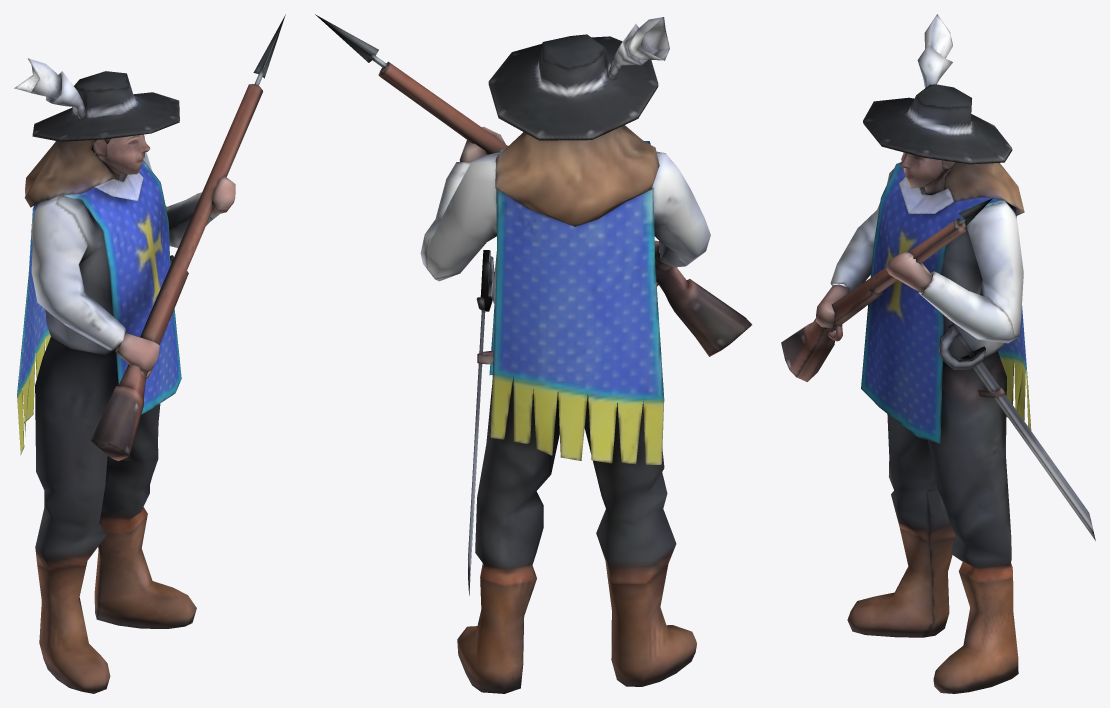
Rendered from Musketeers.glb.
3 views of the same model, side by side, from view 1: azimuth 30°, elevation 25°; view 2: azimuth 150°, elevation 25°; view 3: azimuth 270°, elevation 25° (orthographic). The views are drawn at different scales.
Parts seen in each view (by area): view 1: low; view 2: low; view 3: low.
Boxes of the visible parts, box(x1,y1,x2,y2) form: low: box(14, 14, 285, 693); low: box(315, 14, 751, 693); low: box(781, 14, 1095, 693).
Size of the model in its own units: 0.947 by 1.85 by 0.8793.
1 material, 1 textured.
